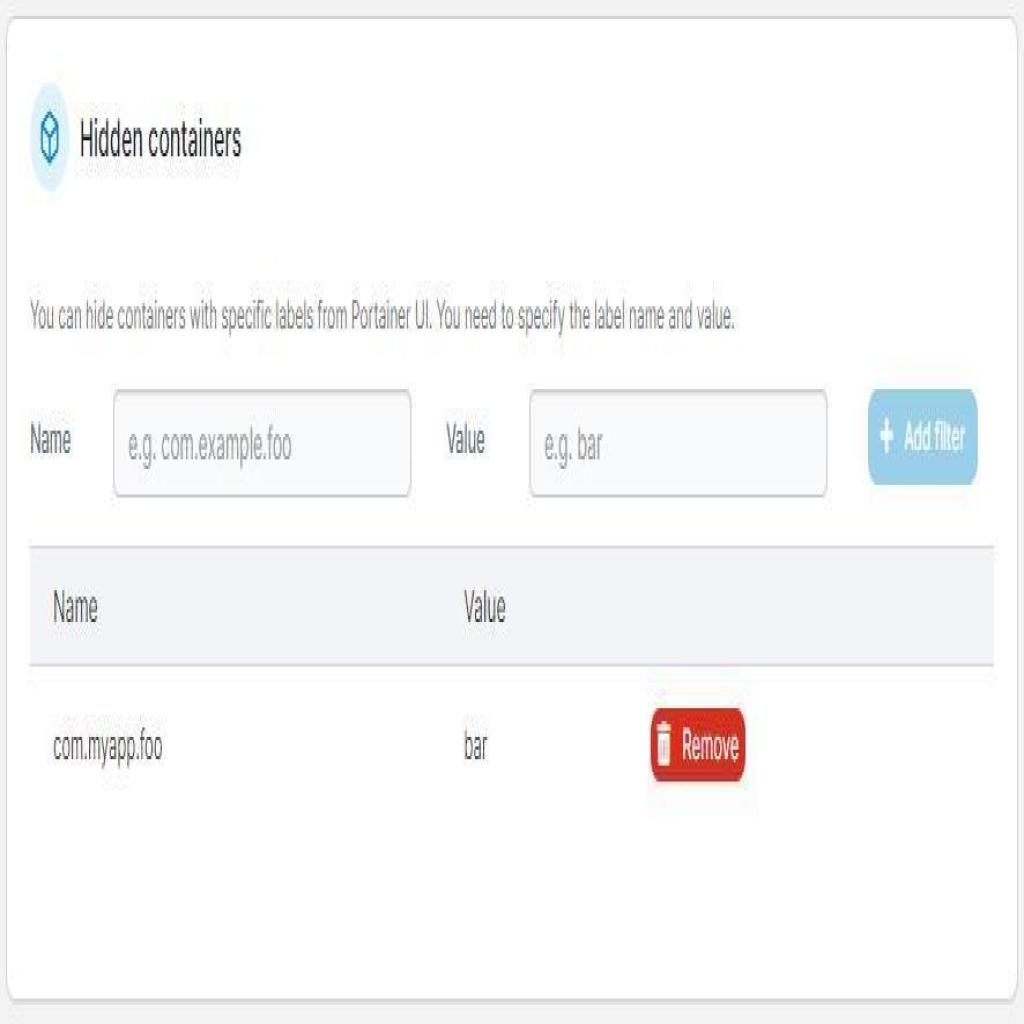button: (867, 383, 980, 488), (648, 702, 746, 785)
input: (530, 386, 828, 501), (112, 386, 412, 494)
label: (30, 287, 737, 341), (80, 109, 244, 169), (48, 724, 166, 775), (51, 584, 102, 635), (464, 587, 510, 638), (445, 412, 488, 466), (29, 415, 76, 456), (460, 715, 491, 772)
